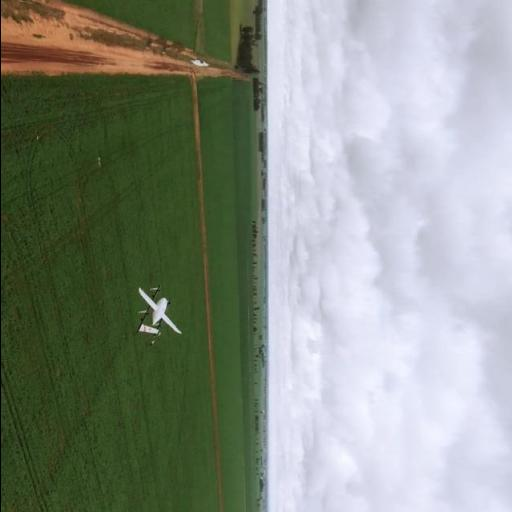uav: (126, 276, 186, 346)
